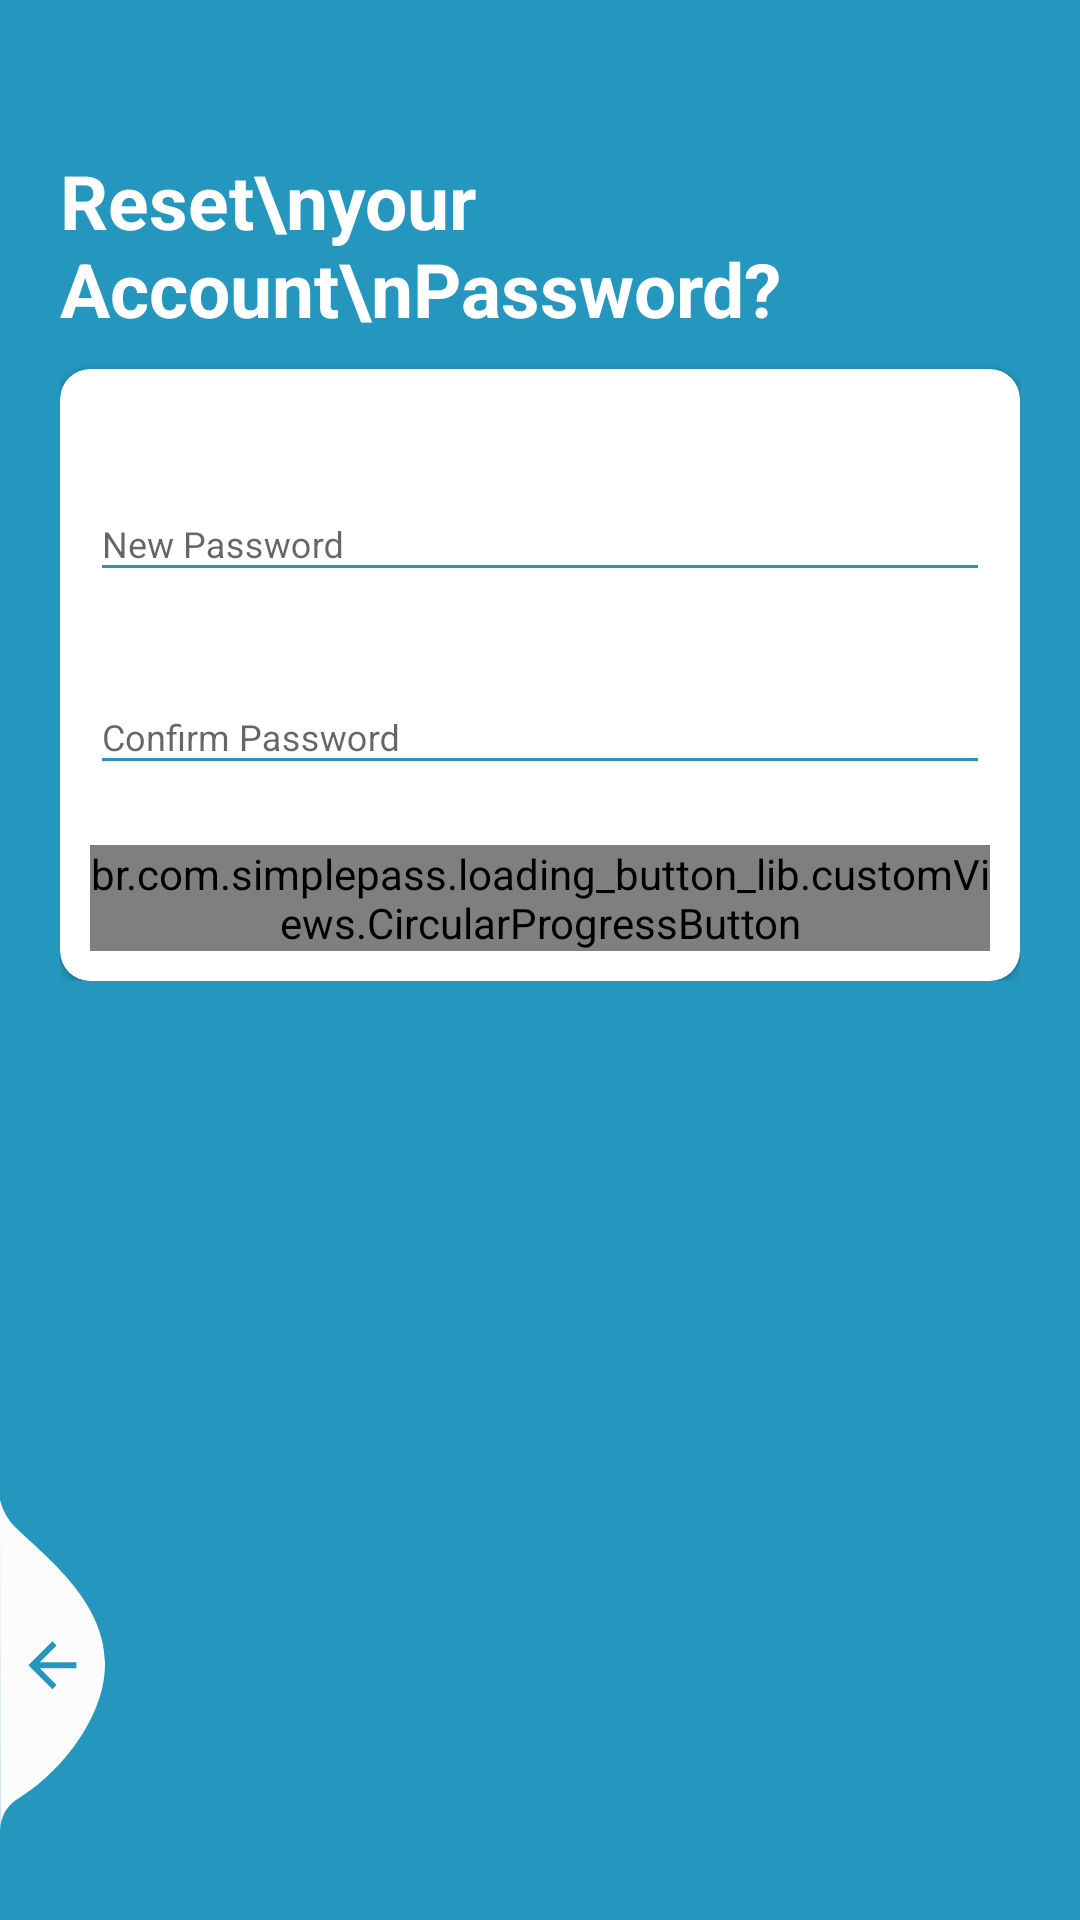

Screen size 1080px×1920px. Icon name, then its center in pixels as (x,y):
back: (52,1664)
